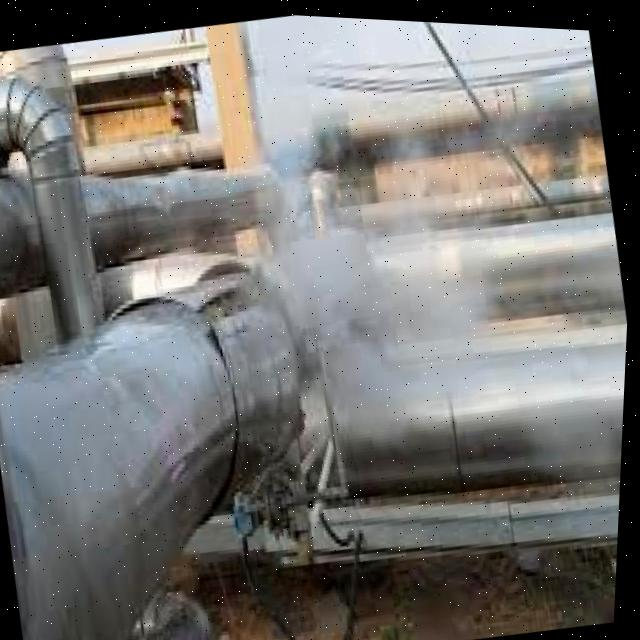corrosion: (159, 186, 505, 512)
